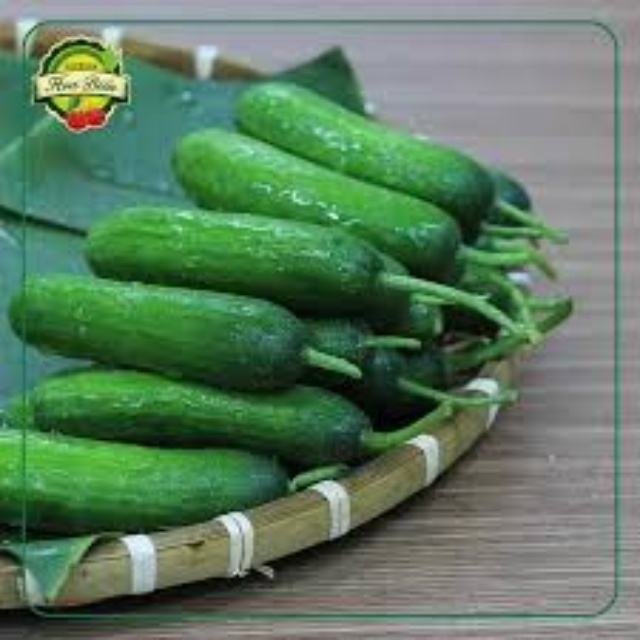dua_leo: (232, 74, 498, 238)
